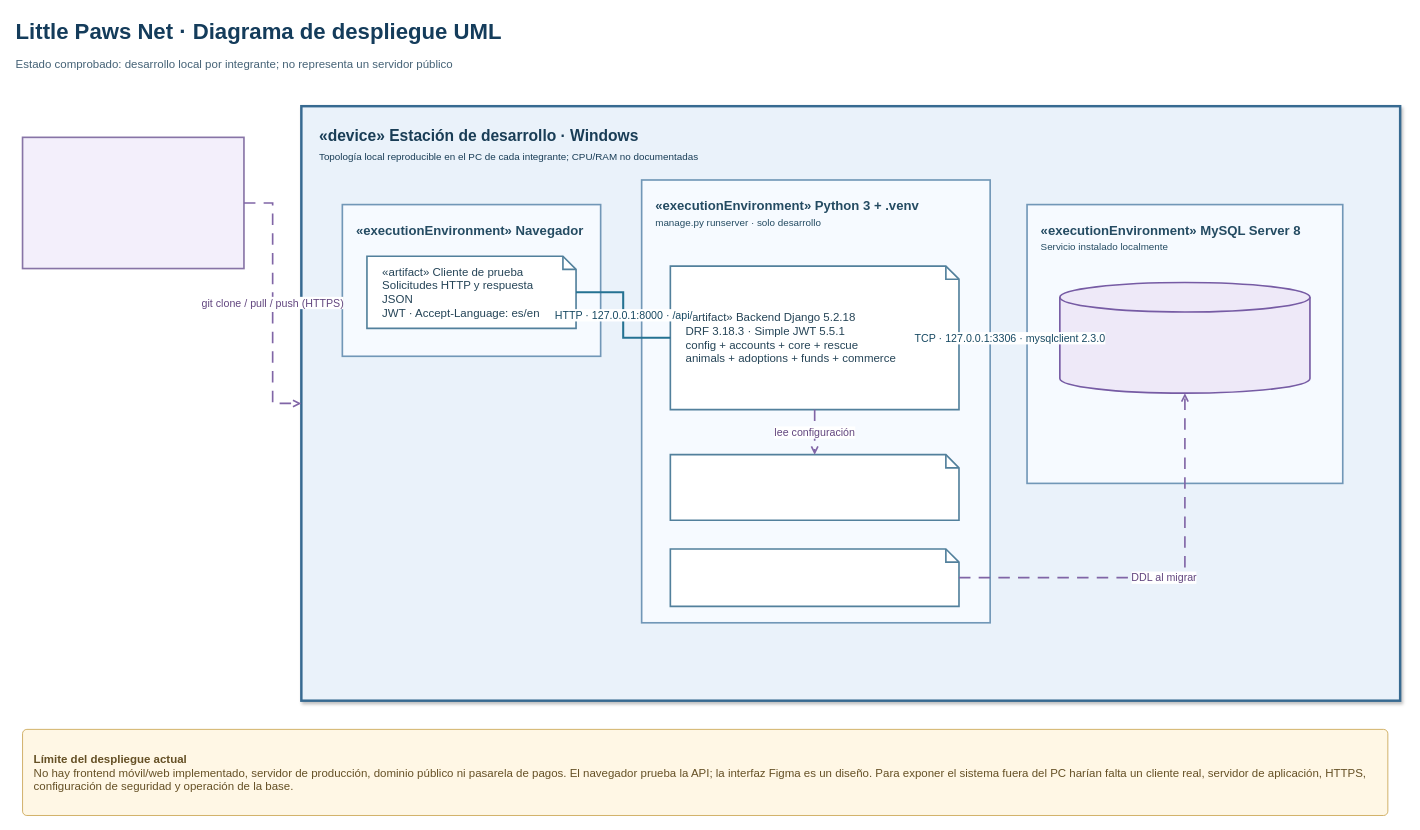
The diagram is 1420 pixels wide and 830 high, and some of its shapes have lost their labels. The centre of each missing label's shape, as x and y in pixels:
«artifact» apps/*/migrations Esquema aplicado con manage.py migrate: point 814,577
«artifact» backend/.env (local) Secretos, conexión MySQL y clave Fernet: point 814,487
«database» little_paws_net_equipo Tablas creadas por migraciones Django: point 1184,337
«external» GitHub Repositorio de código y migraciones No ejecuta la API: point 132,202
